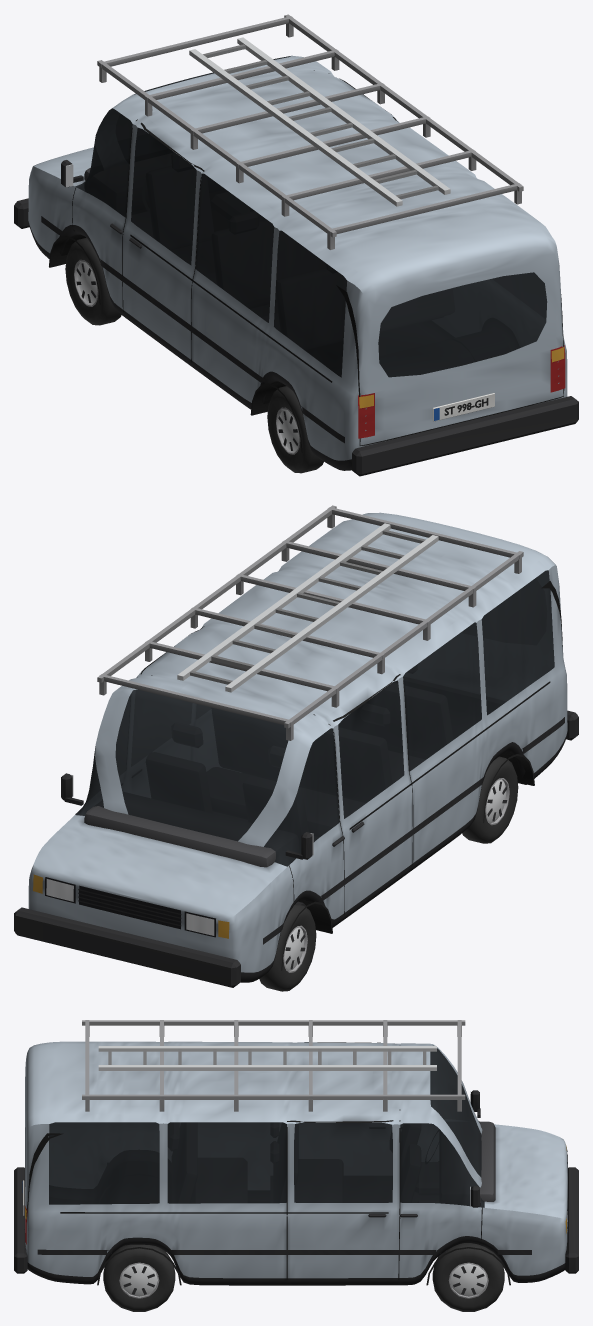
Rendered from kombi.glb.
3 renders of one model, top to bottom at view 1: azimuth 30°, elevation 25°; view 2: azimuth 150°, elevation 25°; view 3: azimuth 270°, elevation 25°, orthographic. The views are drawn at different scales.
Parts seen in each view (by area): view 1: body, wheelmesh_0, wheelmesh_2; view 2: body, wheelmesh_0, wheelmesh_2; view 3: body, wheelmesh_3, wheelmesh_1.
Part boxes in pixels (x1,y1,x2,y2): body: (14, 14, 578, 476); wheelmesh_0: (65, 237, 121, 325); wheelmesh_2: (267, 386, 323, 473); body: (14, 505, 578, 987); wheelmesh_0: (259, 904, 316, 991); wheelmesh_2: (462, 756, 518, 843); body: (14, 1020, 578, 1285); wheelmesh_3: (103, 1244, 175, 1311); wheelmesh_1: (432, 1243, 504, 1311).
Bounding box in the file's own units: 2.08 × 2.12 × 5.01.
